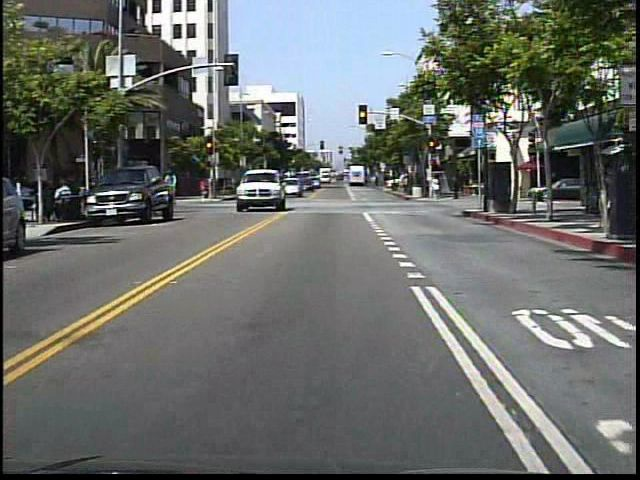person: (160, 169, 182, 204), (450, 172, 464, 205), (429, 176, 442, 200), (201, 175, 211, 199)
